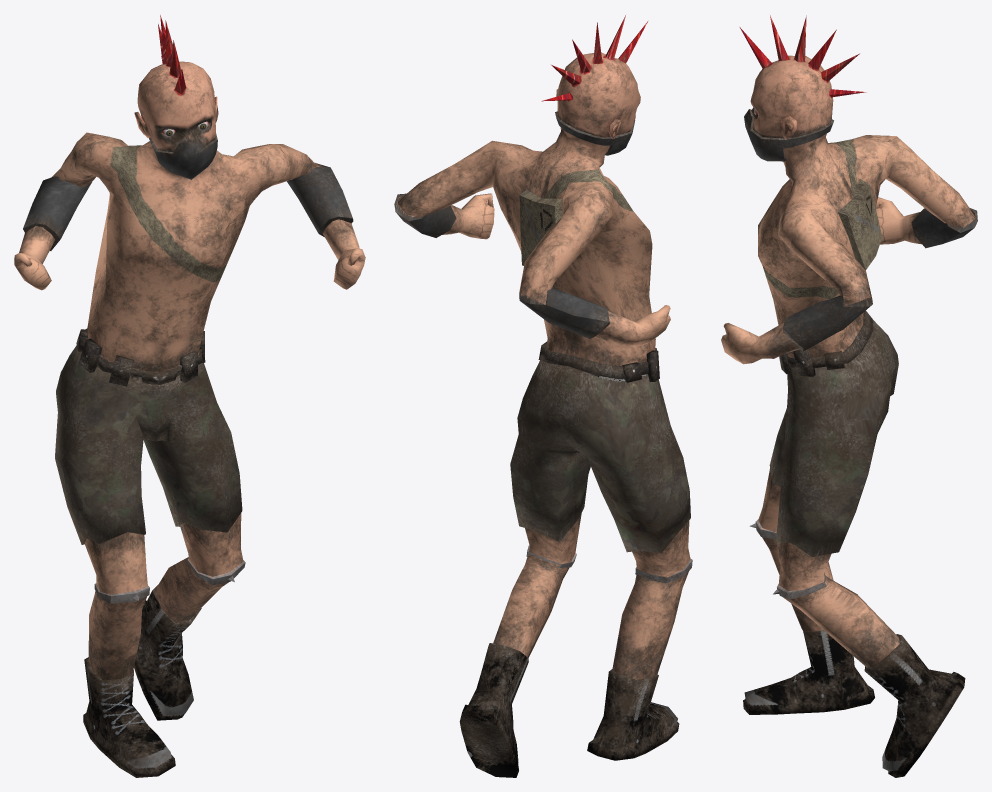
Rendered from Anim_ataque_d3_npc2.0038.obj.
3 renders of one model, left to right at view 1: azimuth 30°, elevation 25°; view 2: azimuth 150°, elevation 25°; view 3: azimuth 270°, elevation 25°, orthographic.
Visible parts, largest first — view 1: polySurface1; view 2: polySurface1; view 3: polySurface1.
Part boxes in pixels (x1=…): polySurface1: x1=14, y1=15, x2=365, y2=777; polySurface1: x1=394, y1=15, x2=692, y2=777; polySurface1: x1=721, y1=15, x2=977, y2=777.
Bounding box in the file's own units: 4.15 × 10.08 × 3.19.
